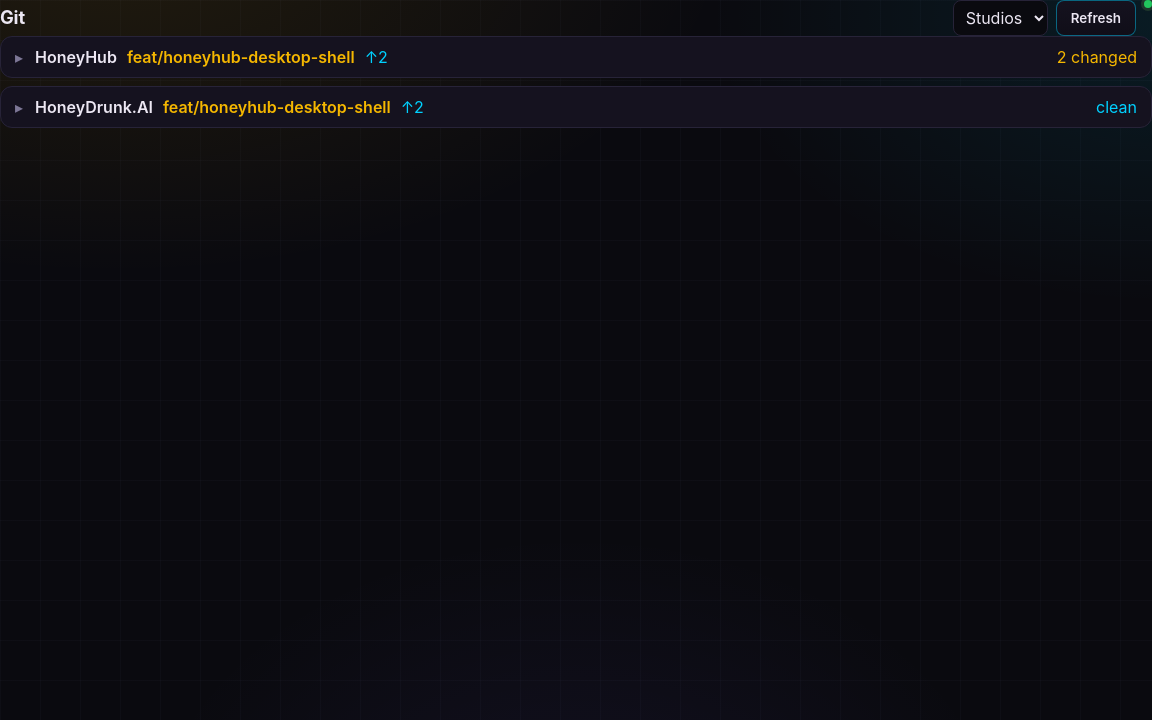
Test case: GitView › lists the repos in a folder and opens a file diff
Expected: the button "▸ HoneyDrunk.AI feat/honeyhub-desktop-shell ↑2 clean" is shown, [1,87,1151,127]
Click the button "▸ HoneyHub feat/honeyhub-desktop-shell ↑2 2 changed".
click(76, 57)  # box [1,37,1151,77]
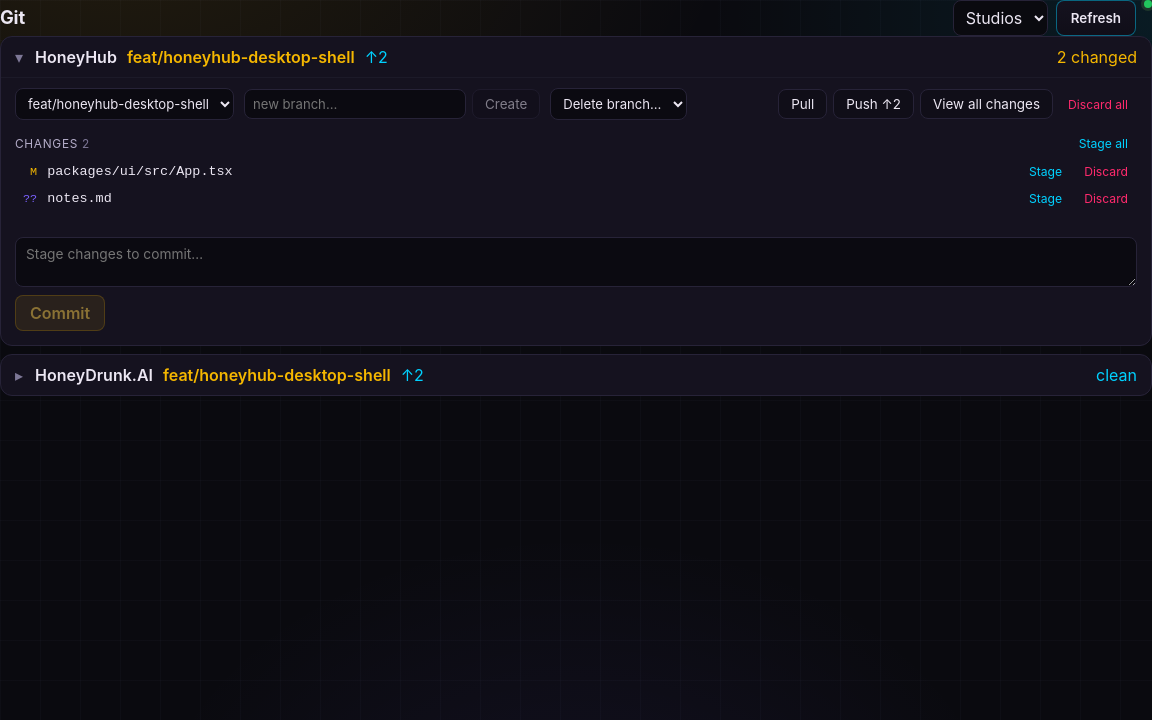
Expected: the text "packages/ui/src/App.tsx" is shown
Expected: the text box named "Commit message" is shown, [15,237,1137,287]
Clicking a file loads its diff.
Click the text "packages/ui/src/App.tsx".
click(140, 172)  # box [47,164,233,179]
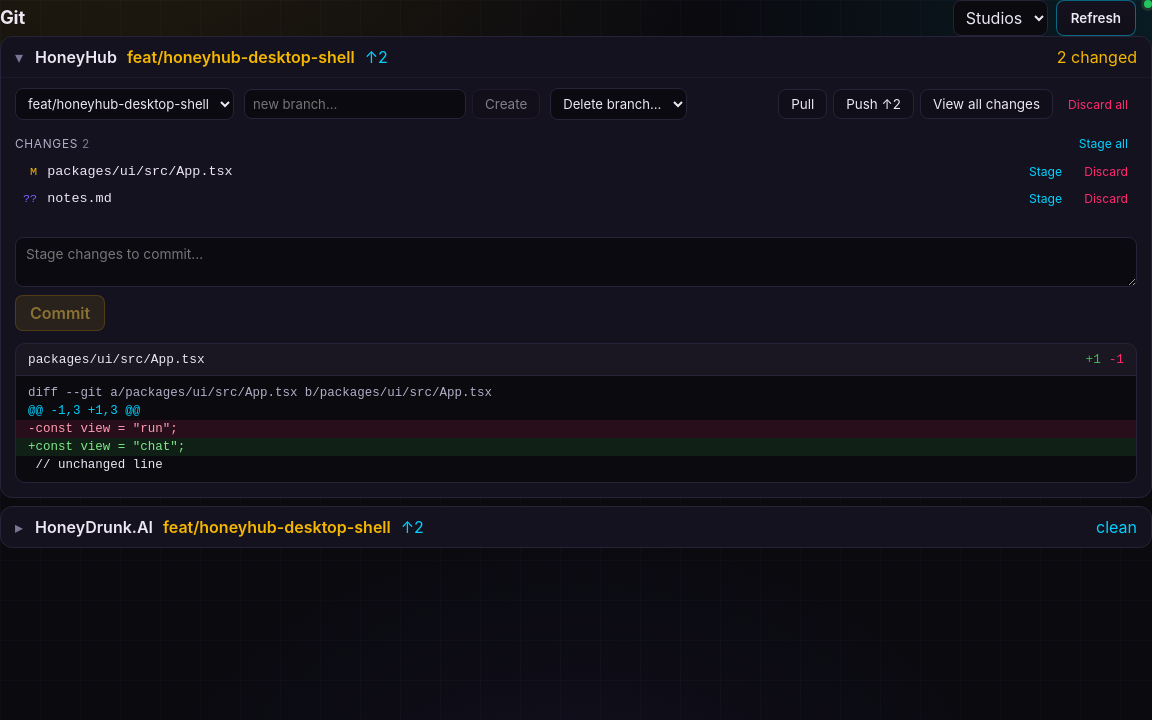
Expected: the element labelled "diff" is shown, [16,376,1136,482]
Expected: the text "+const view = \"chat\";" is shown, [16,438,1136,456]
